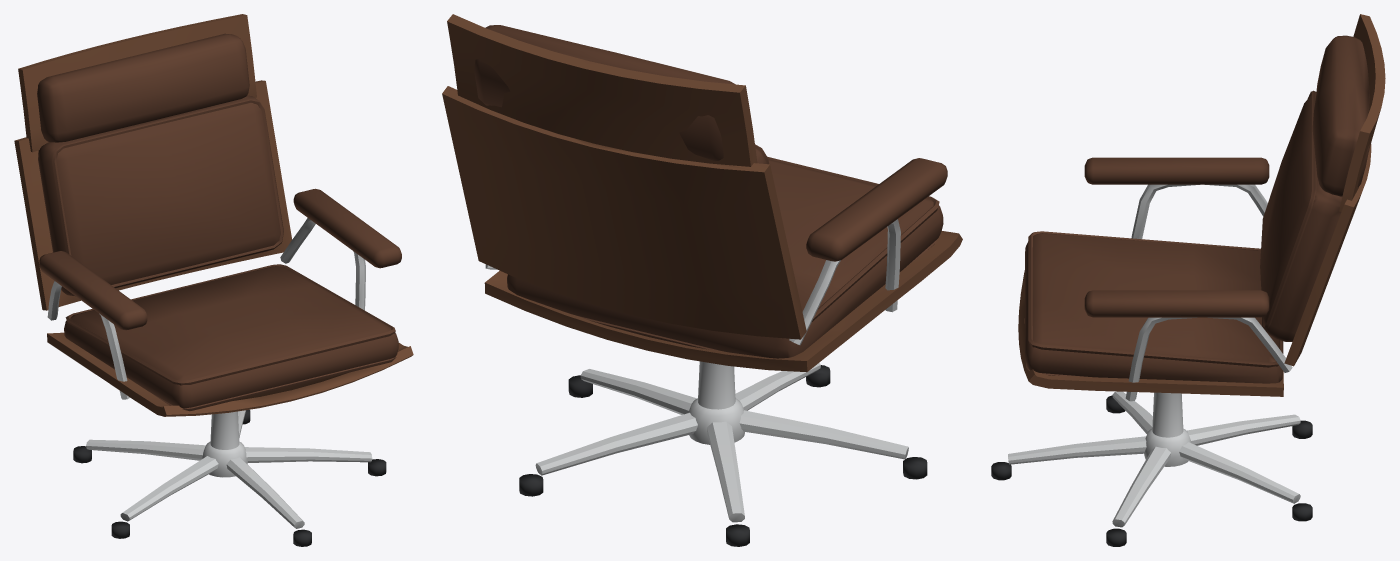
The model's file is armchairDesign.glb.
3 views of the same model, side by side, from view 1: azimuth 30°, elevation 25°; view 2: azimuth 150°, elevation 25°; view 3: azimuth 270°, elevation 25° (orthographic). The views are drawn at different scales.
Visible parts, largest first — view 1: armchairDesign; view 2: armchairDesign; view 3: armchairDesign.
Boxes of the visible parts, left/top/right/bottom form: armchairDesign: left=14, top=14, right=413, bottom=546; armchairDesign: left=442, top=14, right=962, bottom=546; armchairDesign: left=991, top=14, right=1385, bottom=546.
Bounding box in the file's own units: 0.755 × 0.9641 × 0.8532.
